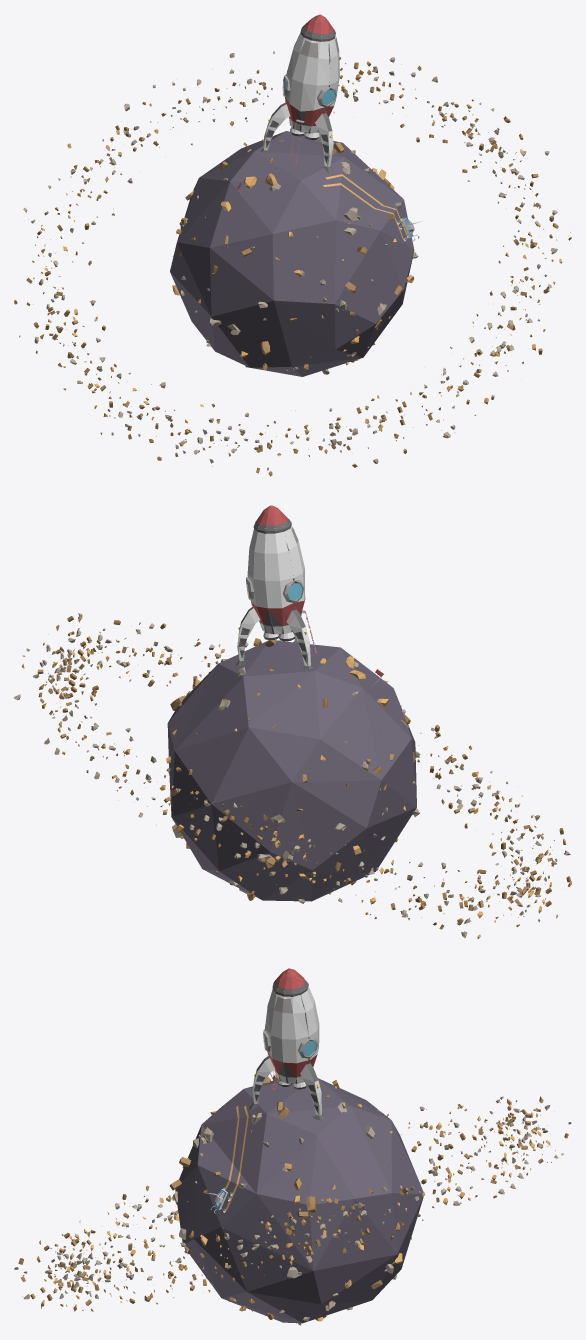
Rendered from ship.obj.
The picture shows the model from 3 angles, top to bottom: view 1: azimuth 30°, elevation 25°; view 2: azimuth 150°, elevation 25°; view 3: azimuth 270°, elevation 25°; orthographic projection. The views are drawn at different scales.
Parts seen in each view (by area): view 1: planet.001; view 2: planet.001; view 3: planet.001.
Part boxes in pixels (bbox=[...]): planet.001: bbox=[14, 14, 571, 476]; planet.001: bbox=[14, 505, 571, 938]; planet.001: bbox=[14, 968, 571, 1325].
Bounding box in the file's own units: 30.51 × 22.9 × 31.6.
Materials: 1 (1 with a texture image).
